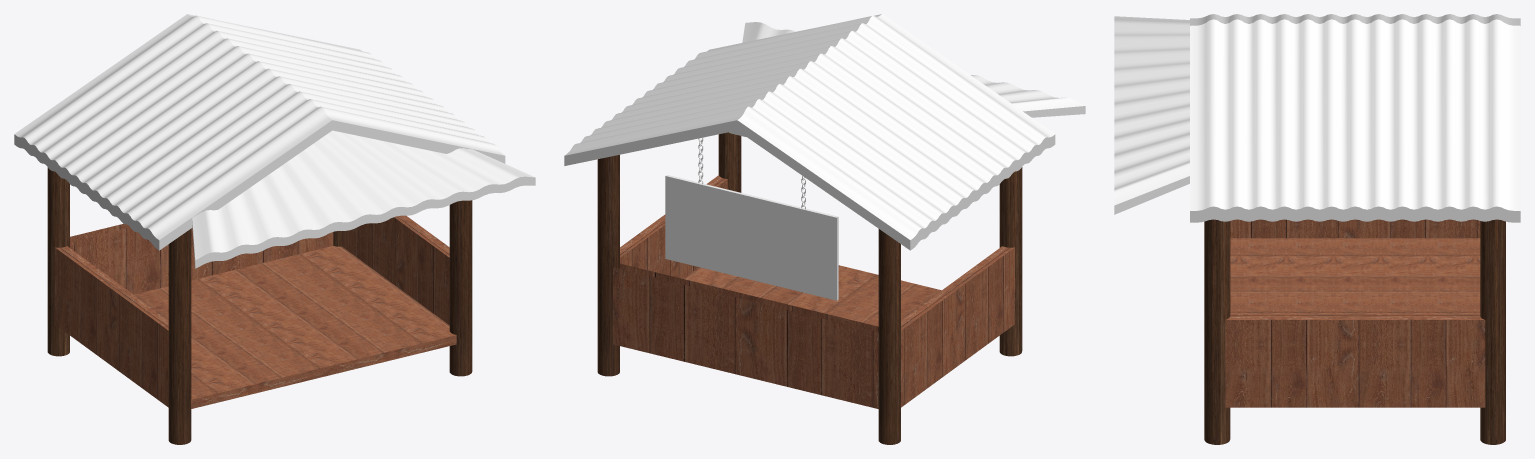
The model's file is gazebo.glb.
3 views of the same model, side by side, from view 1: azimuth 30°, elevation 25°; view 2: azimuth 150°, elevation 25°; view 3: azimuth 270°, elevation 25° (orthographic). The views are drawn at different scales.
Visible parts, largest first — view 1: Cube.001, Cube, Cube.002, Cylinder; view 2: Cube.001, Cube, Cube.003, Cylinder, Cube.002; view 3: Cube.001, Cube, Cube.002, Cylinder.
Boxes of the visible parts, x1,y1,x2,y2 form: Cube.001: [14, 14, 505, 250]; Cube: [54, 215, 456, 408]; Cube.002: [192, 130, 535, 268]; Cylinder: [47, 167, 472, 444]; Cube.001: [564, 14, 1055, 250]; Cube: [613, 175, 1014, 408]; Cube.003: [665, 175, 838, 300]; Cylinder: [597, 132, 1022, 444]; Cube.002: [729, 22, 1085, 137]; Cube.001: [1190, 14, 1520, 222]; Cube: [1225, 219, 1485, 407]; Cube.002: [1114, 16, 1189, 214]; Cylinder: [1204, 219, 1505, 444].
Bounding box in the file's own units: 5.07 × 4.2 × 4.52.
5 materials, 3 textured.
